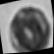correct: (4, 0, 54, 54)
